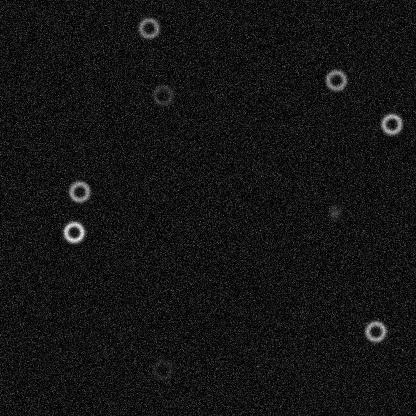Ring: (323, 68, 347, 92), (136, 15, 160, 39), (150, 83, 174, 107), (67, 179, 91, 203), (150, 357, 174, 381), (61, 220, 85, 244), (379, 111, 403, 135), (363, 319, 387, 343)
Spot: (326, 204, 342, 220)
